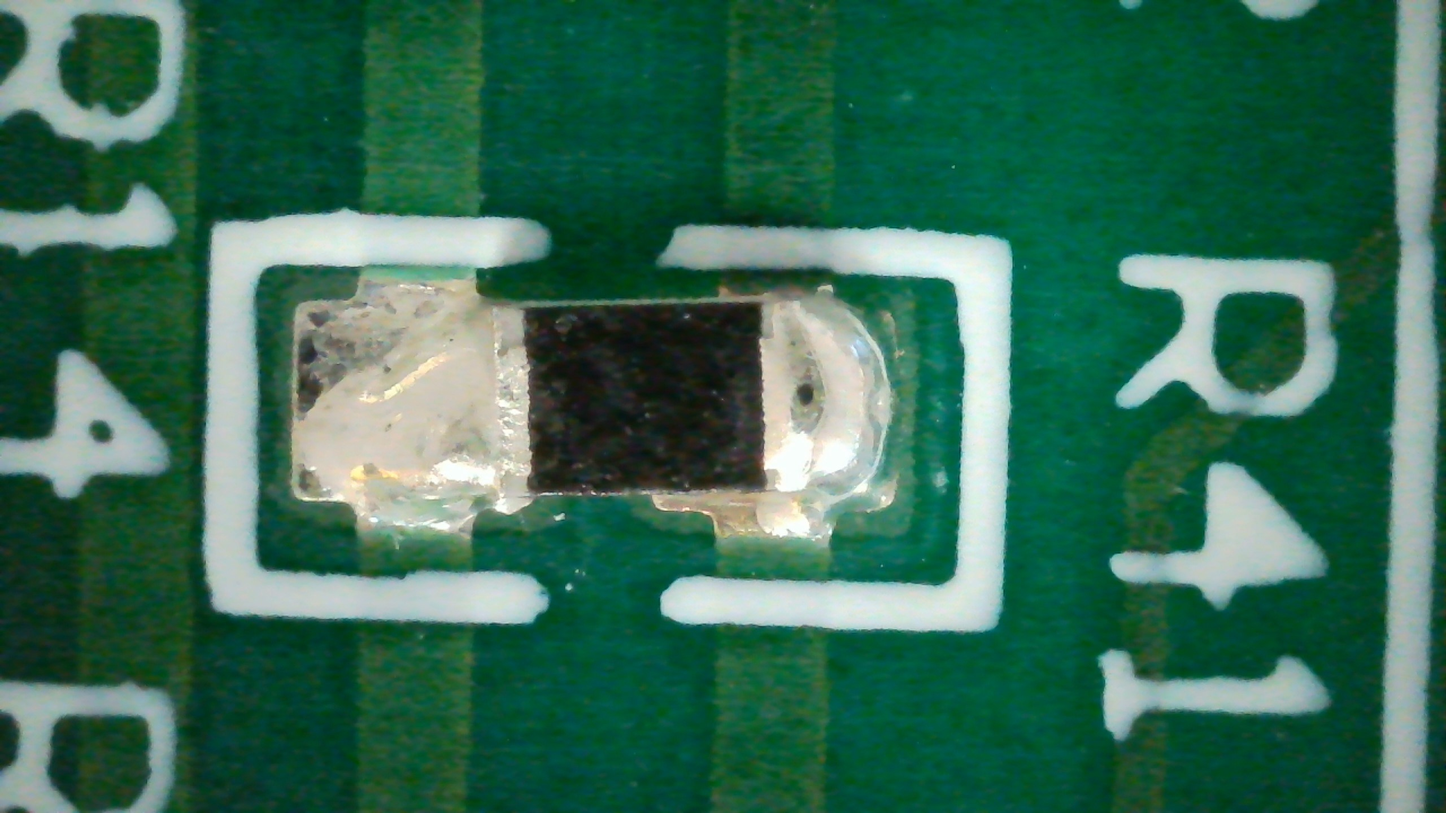OK: (292, 264, 886, 541)
